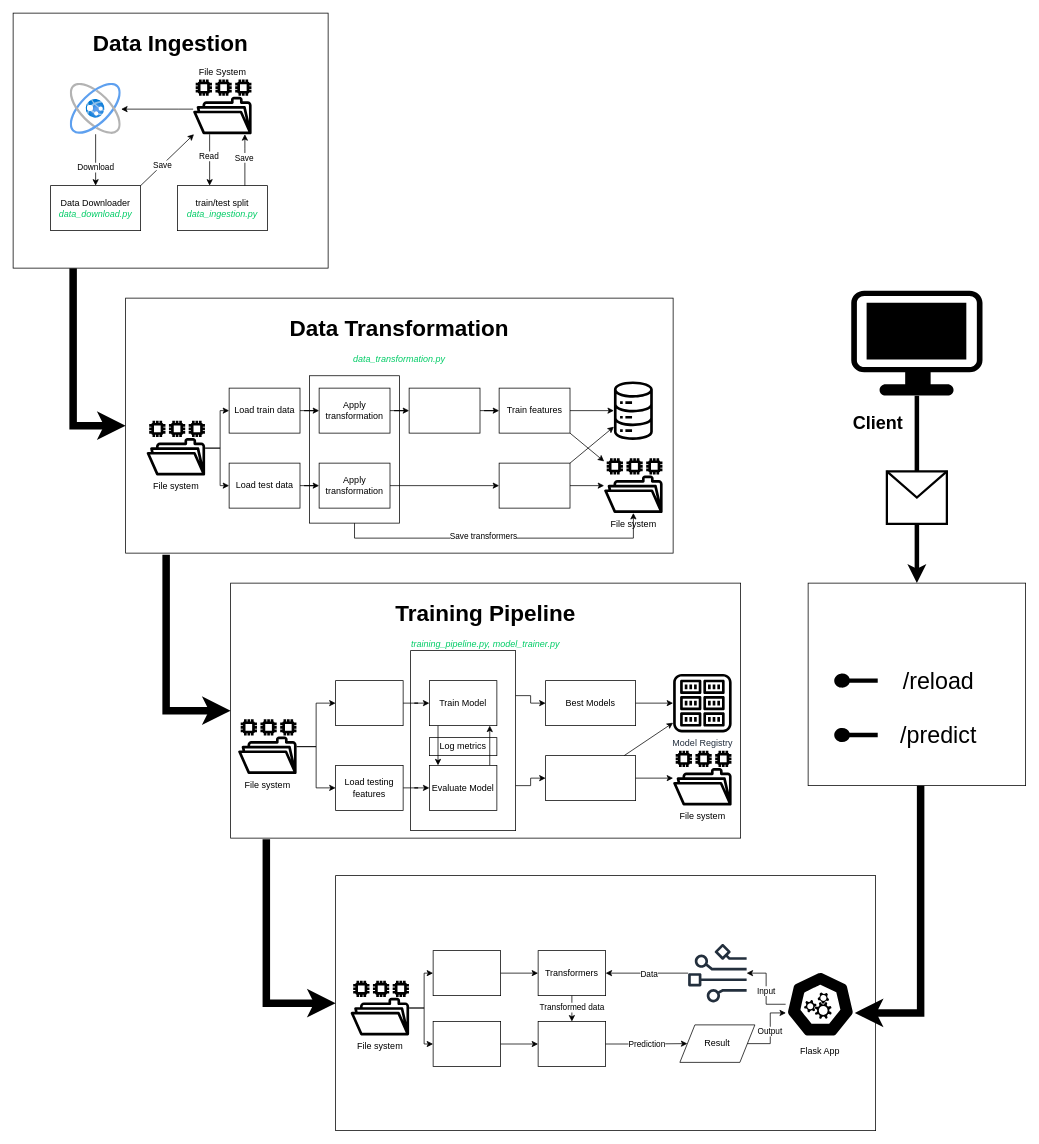
This 1039x1144 diagram has some shape labels left out. The box of each missing label's shape, as (x1, y1, x2, y2) in pixels:
Apply oversampling: (408, 387, 480, 433)
Feature store: (613, 381, 653, 440)
Flask Application app.py: (807, 582, 1026, 786)
Global best model: (545, 755, 636, 801)
Grid Search Hyperparameter: (410, 650, 516, 831)
Load global best model: (432, 1021, 501, 1066)
Load training features: (335, 680, 403, 726)
Load transformers: (432, 950, 501, 996)
Model: (537, 1021, 606, 1066)
Prediction Pipeline prediction_pipeline.py: (335, 875, 876, 1131)
Telco Customer Churn Dataset: (70, 83, 121, 134)
Test features: (498, 462, 570, 508)
